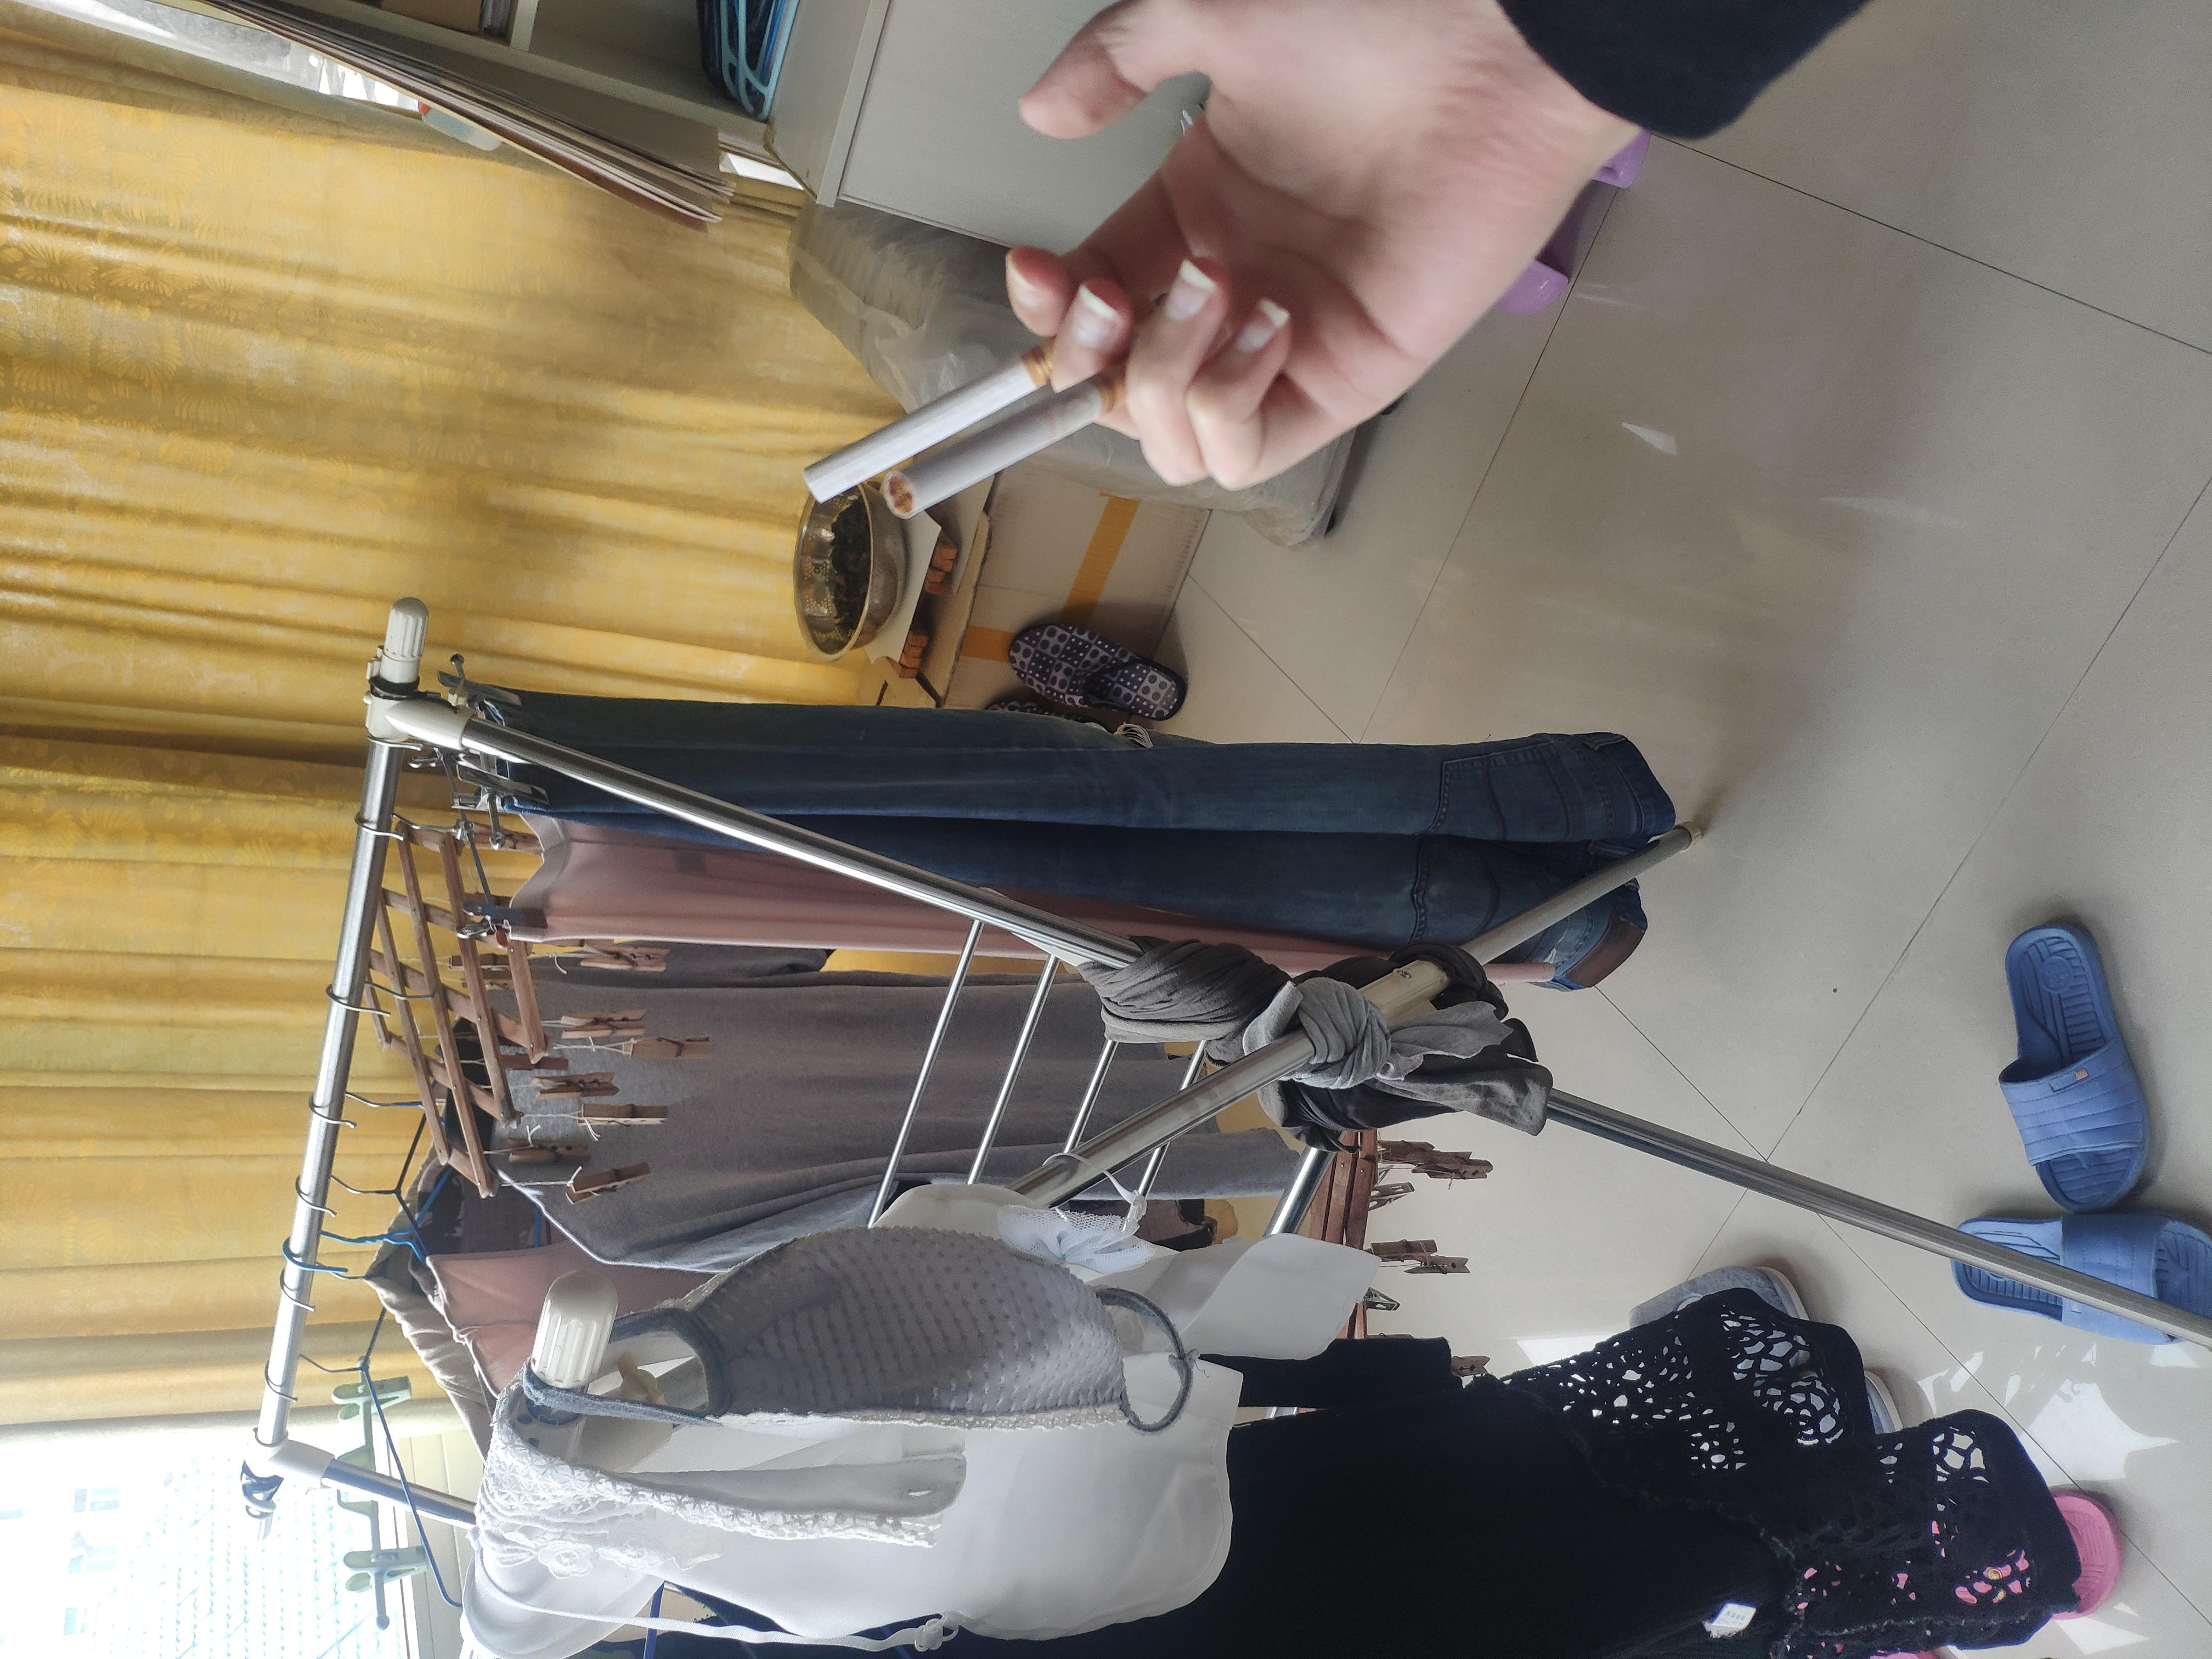smoke: (1541, 601, 1792, 840), (1522, 660, 1756, 885)
